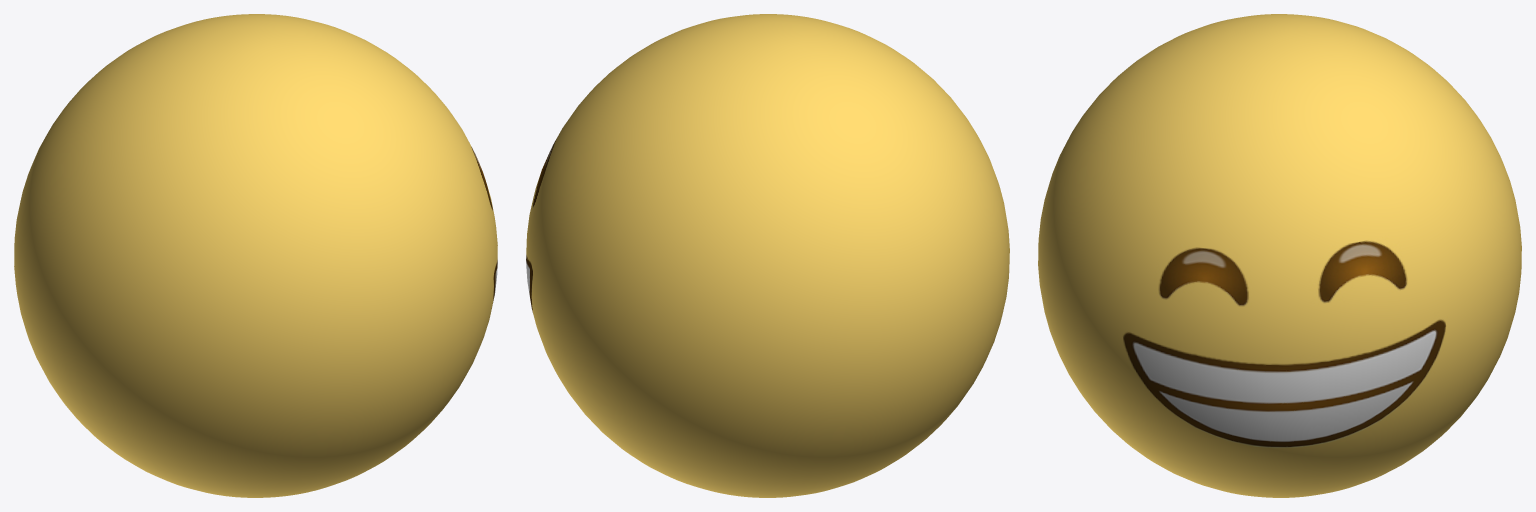
File: Emoji-09new.fbx
3 views of the same model, side by side, from view 1: azimuth 30°, elevation 25°; view 2: azimuth 150°, elevation 25°; view 3: azimuth 270°, elevation 25° (orthographic).
Visible parts, largest first — view 1: Emoji_09; view 2: Emoji_09; view 3: Emoji_09.
Part boxes in pixels (bbox=[...]): Emoji_09: bbox=[14, 14, 497, 497]; Emoji_09: bbox=[526, 14, 1009, 497]; Emoji_09: bbox=[1038, 14, 1521, 497].
Bounding box in the file's own units: 10.65 × 10.66 × 10.65.
Materials: 1 (1 with a texture image).
